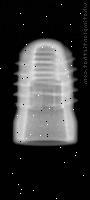Camlog: (13, 38, 78, 146)
